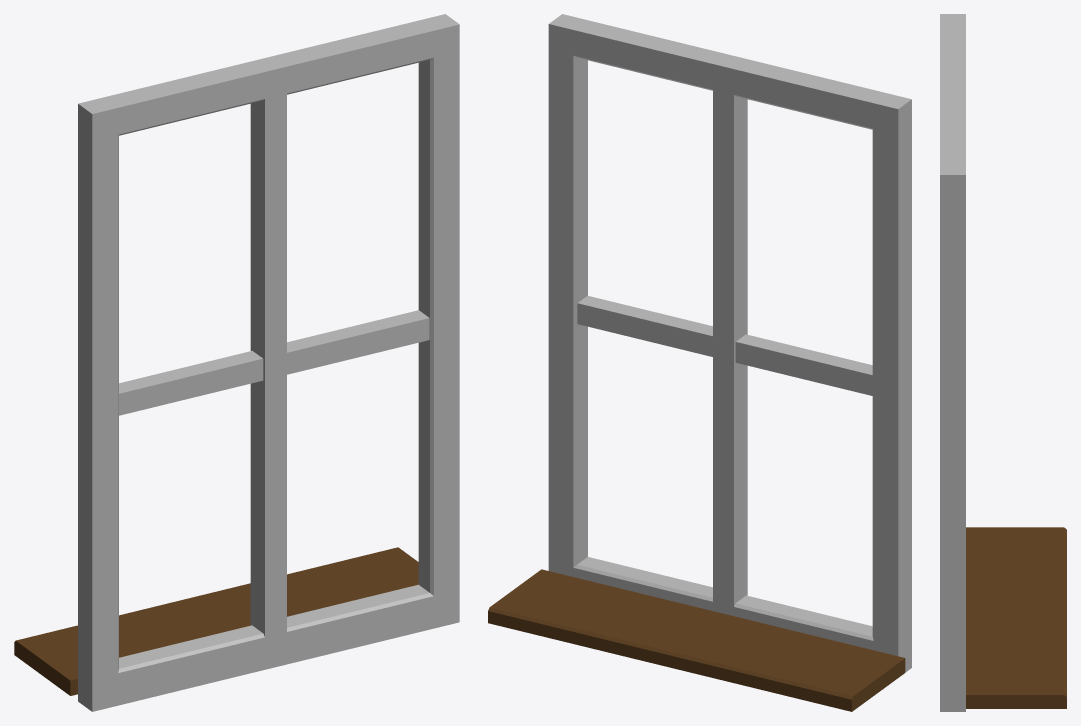
File: Rama_OK.fbx
The picture shows the model from 3 angles, left to right: view 1: azimuth 30°, elevation 25°; view 2: azimuth 150°, elevation 25°; view 3: azimuth 270°, elevation 25°; orthographic projection. The views are drawn at different scales.
Visible parts, largest first — view 1: Rama_Okno; view 2: Rama_Okno; view 3: Rama_Okno.
Boxes of the visible parts, x1,y1,x2,y2 form: Rama_Okno: [14, 14, 459, 711]; Rama_Okno: [488, 14, 911, 711]; Rama_Okno: [940, 14, 1066, 711].
Bounding box in the file's own units: 108 × 161 × 34.5.
